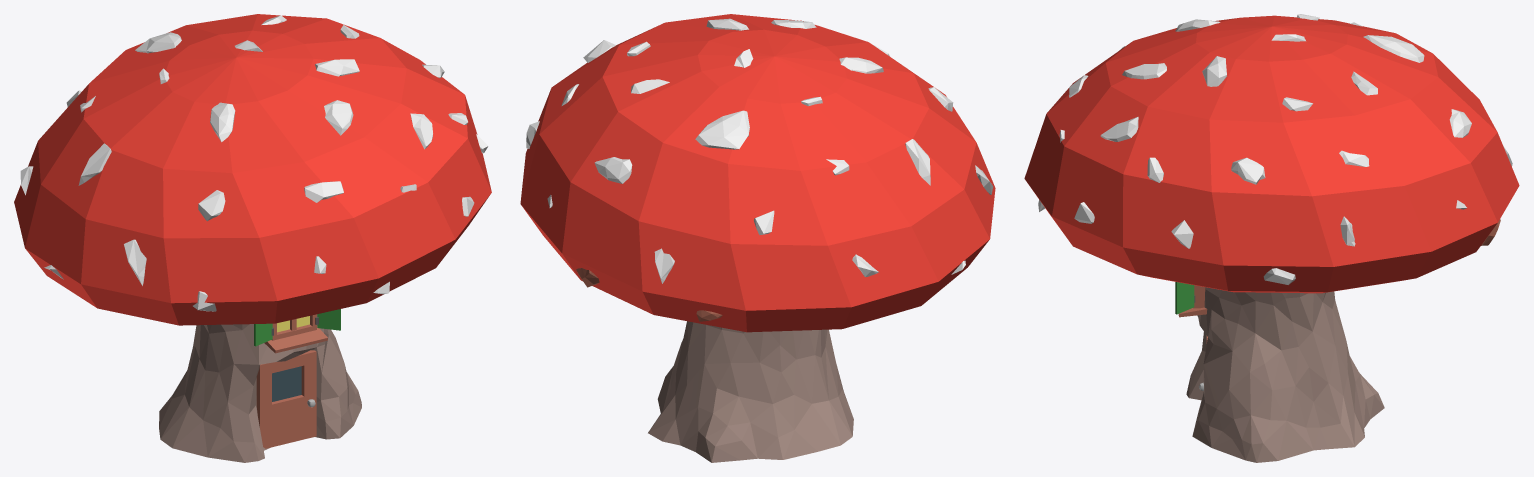
Rendered from building_016.fbx.
The picture shows the model from 3 angles, left to right: view 1: azimuth 30°, elevation 25°; view 2: azimuth 150°, elevation 25°; view 3: azimuth 270°, elevation 25°; orthographic projection. The views are drawn at different scales.
Visible parts, largest first — view 1: building.016; view 2: building.016; view 3: building.016.
Boxes of the visible parts, x1=… form: building.016: x1=14, y1=14, x2=491, y2=462; building.016: x1=520, y1=14, x2=995, y2=462; building.016: x1=1024, y1=14, x2=1519, y2=462.
Bounding box in the file's own units: 1496 × 1291 × 1518.
Materials: 1 (1 with a texture image).
